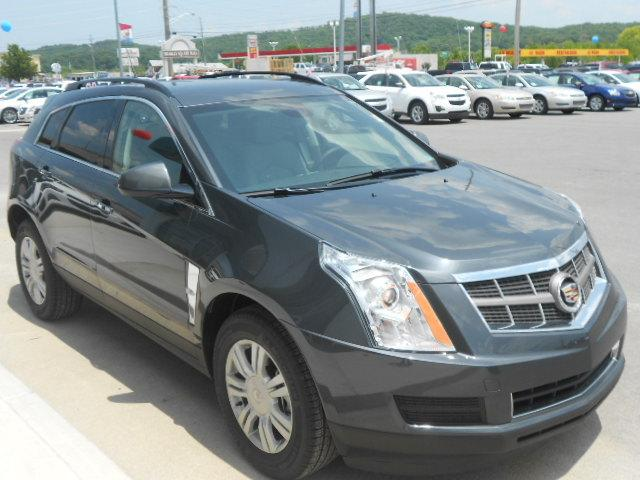car: (0, 71, 640, 480), (359, 64, 466, 125), (445, 64, 532, 121), (565, 57, 640, 123)
